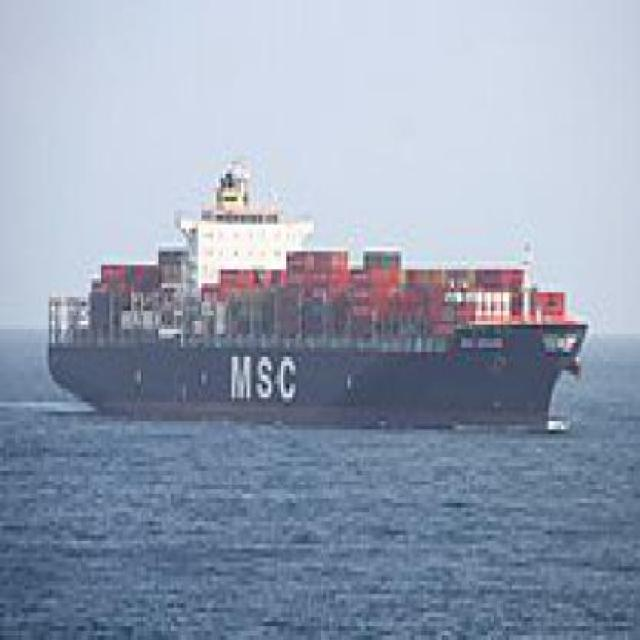container: (34, 138, 596, 444)
